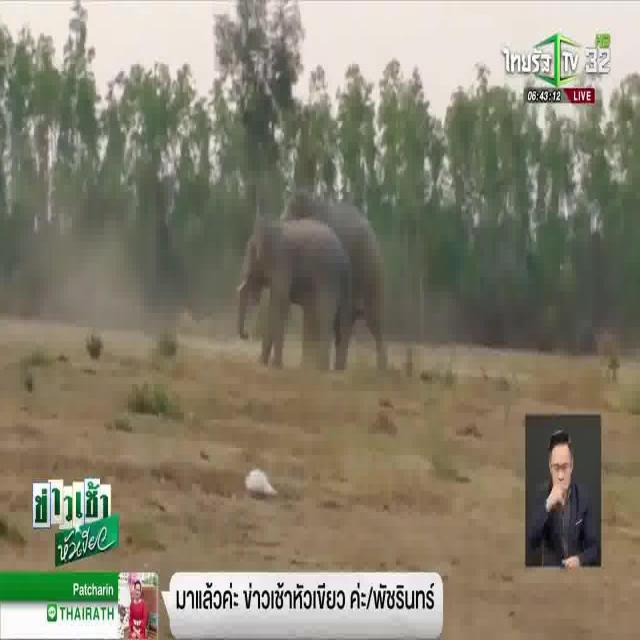Elephant: (234, 206, 348, 358), (290, 178, 394, 327)
